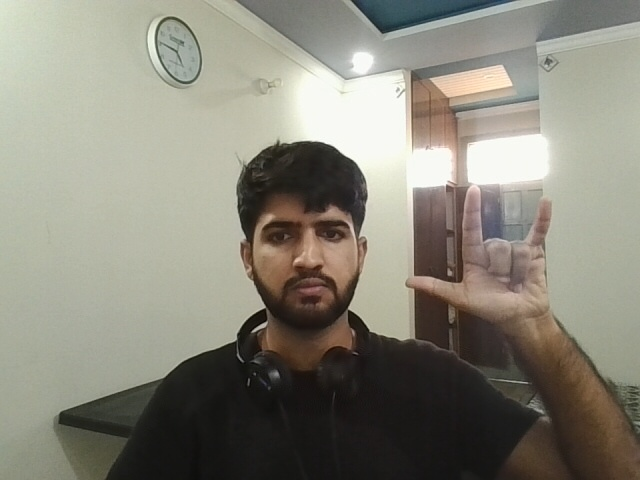I Love You: (395, 172, 565, 352)
